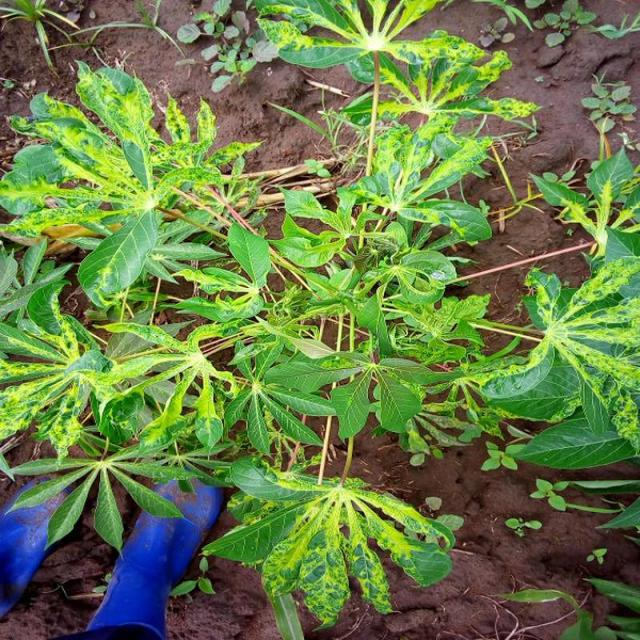Mosaico: (223, 443, 467, 616), (14, 69, 199, 247), (311, 118, 520, 248), (75, 305, 259, 439), (498, 266, 640, 408), (16, 265, 127, 439), (249, 0, 485, 79), (329, 45, 516, 138)
